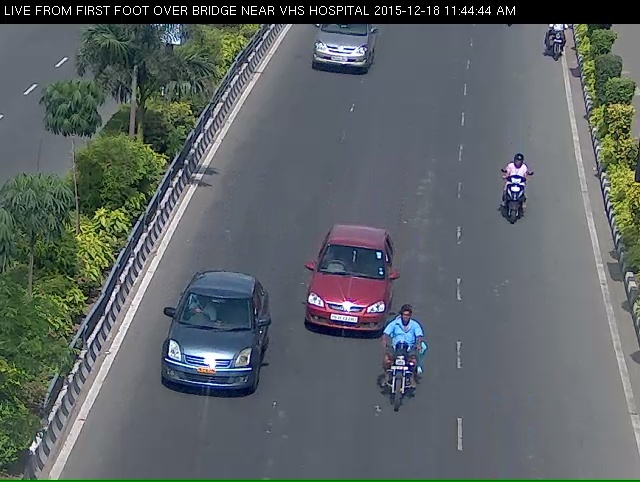Car: (135, 288, 272, 438), (284, 236, 393, 372)
Person: (383, 332, 426, 445), (497, 156, 537, 247)
